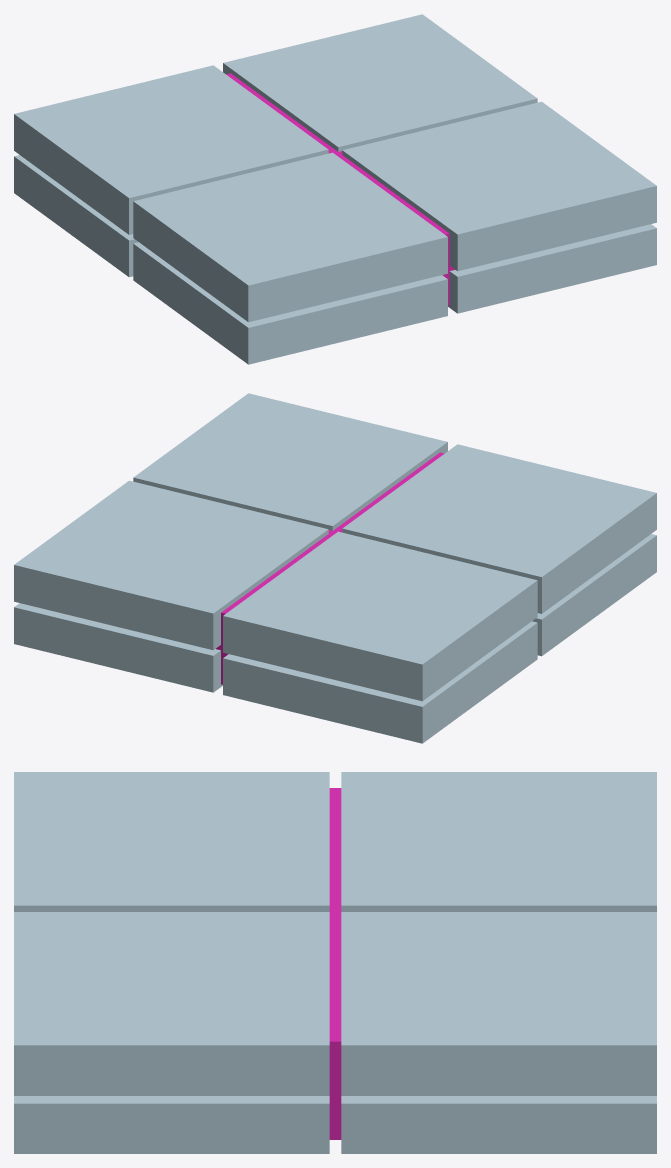
File: block04.fbx
3 renders of one model, top to bottom at view 1: azimuth 30°, elevation 25°; view 2: azimuth 150°, elevation 25°; view 3: azimuth 270°, elevation 25°, orthographic. The views are drawn at different scales.
Visible parts, largest first — view 1: Cube.001; view 2: Cube.001; view 3: Cube.001.
Boxes of the visible parts, box(x1,y1,x2,y2) form: Cube.001: box(14, 14, 656, 364); Cube.001: box(14, 393, 656, 743); Cube.001: box(14, 772, 656, 1153).
Bounding box in the file's own units: 8.26 × 1.53 × 8.21.
